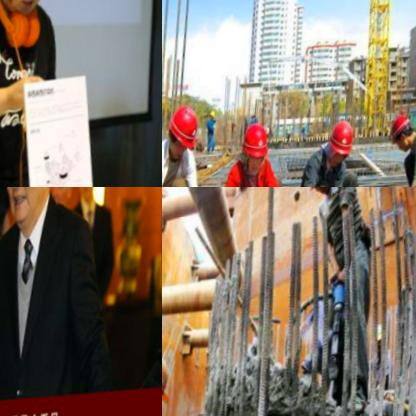head: (0, 187, 64, 228), (45, 187, 83, 217), (75, 187, 106, 203)
helmet: (167, 100, 208, 162), (242, 119, 279, 174), (328, 118, 365, 170), (162, 346, 180, 414), (390, 111, 416, 151), (300, 187, 338, 198)
